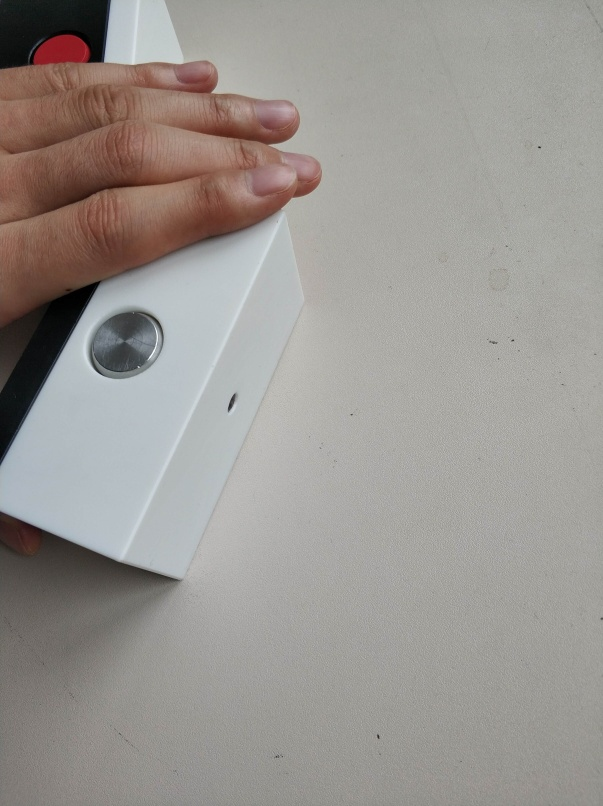black+white+silver: (1, 208, 310, 586)
white+black+red: (1, 1, 187, 64)
